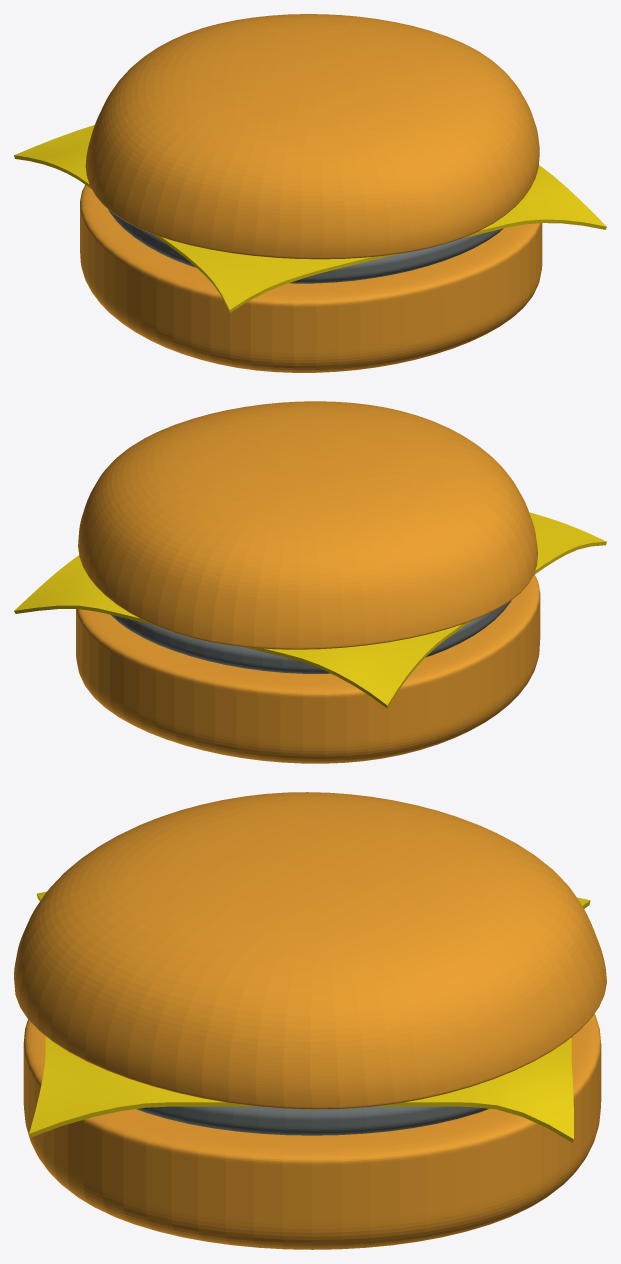
3 views of the same model, one above another, from view 1: azimuth 30°, elevation 25°; view 2: azimuth 150°, elevation 25°; view 3: azimuth 270°, elevation 25° (orthographic). The views are drawn at different scales.
Parts seen in each view (by area): view 1: Cube.002, Cube, Plane, Cube.001; view 2: Cube.002, Cube, Plane, Cube.001; view 3: Cube.002, Cube, Plane, Cube.001.
Part boxes in pixels (box(x1,y1,x2,y2)): Cube.002: box(85, 14, 539, 259); Cube: box(80, 184, 542, 372); Plane: box(14, 125, 606, 312); Cube.001: box(108, 209, 503, 283); Cube.002: box(78, 401, 537, 649); Cube: box(76, 574, 540, 763); Plane: box(14, 512, 606, 708); Cube.001: box(111, 600, 511, 673); Cube.002: box(14, 792, 606, 1109); Cube: box(23, 1013, 601, 1249); Plane: box(29, 891, 590, 1142); Cube.001: box(136, 1037, 571, 1135).
Size of the model in its own units: 9.35 by 5.26 by 9.35.
